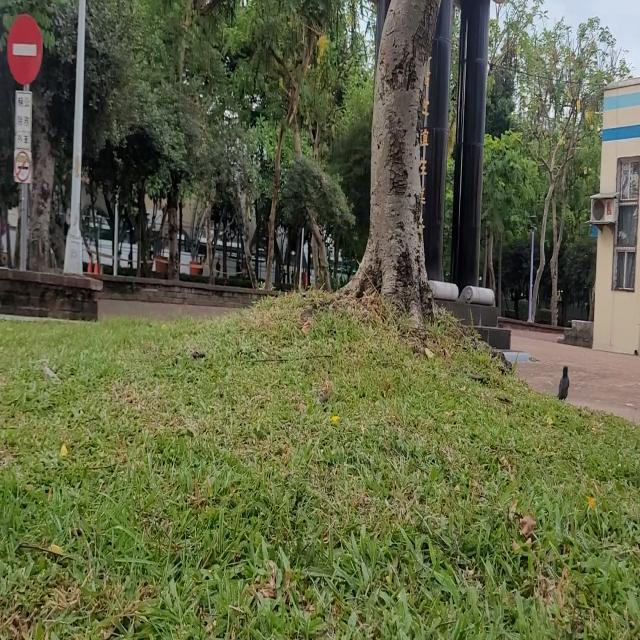tree: (328, 0, 453, 311)
